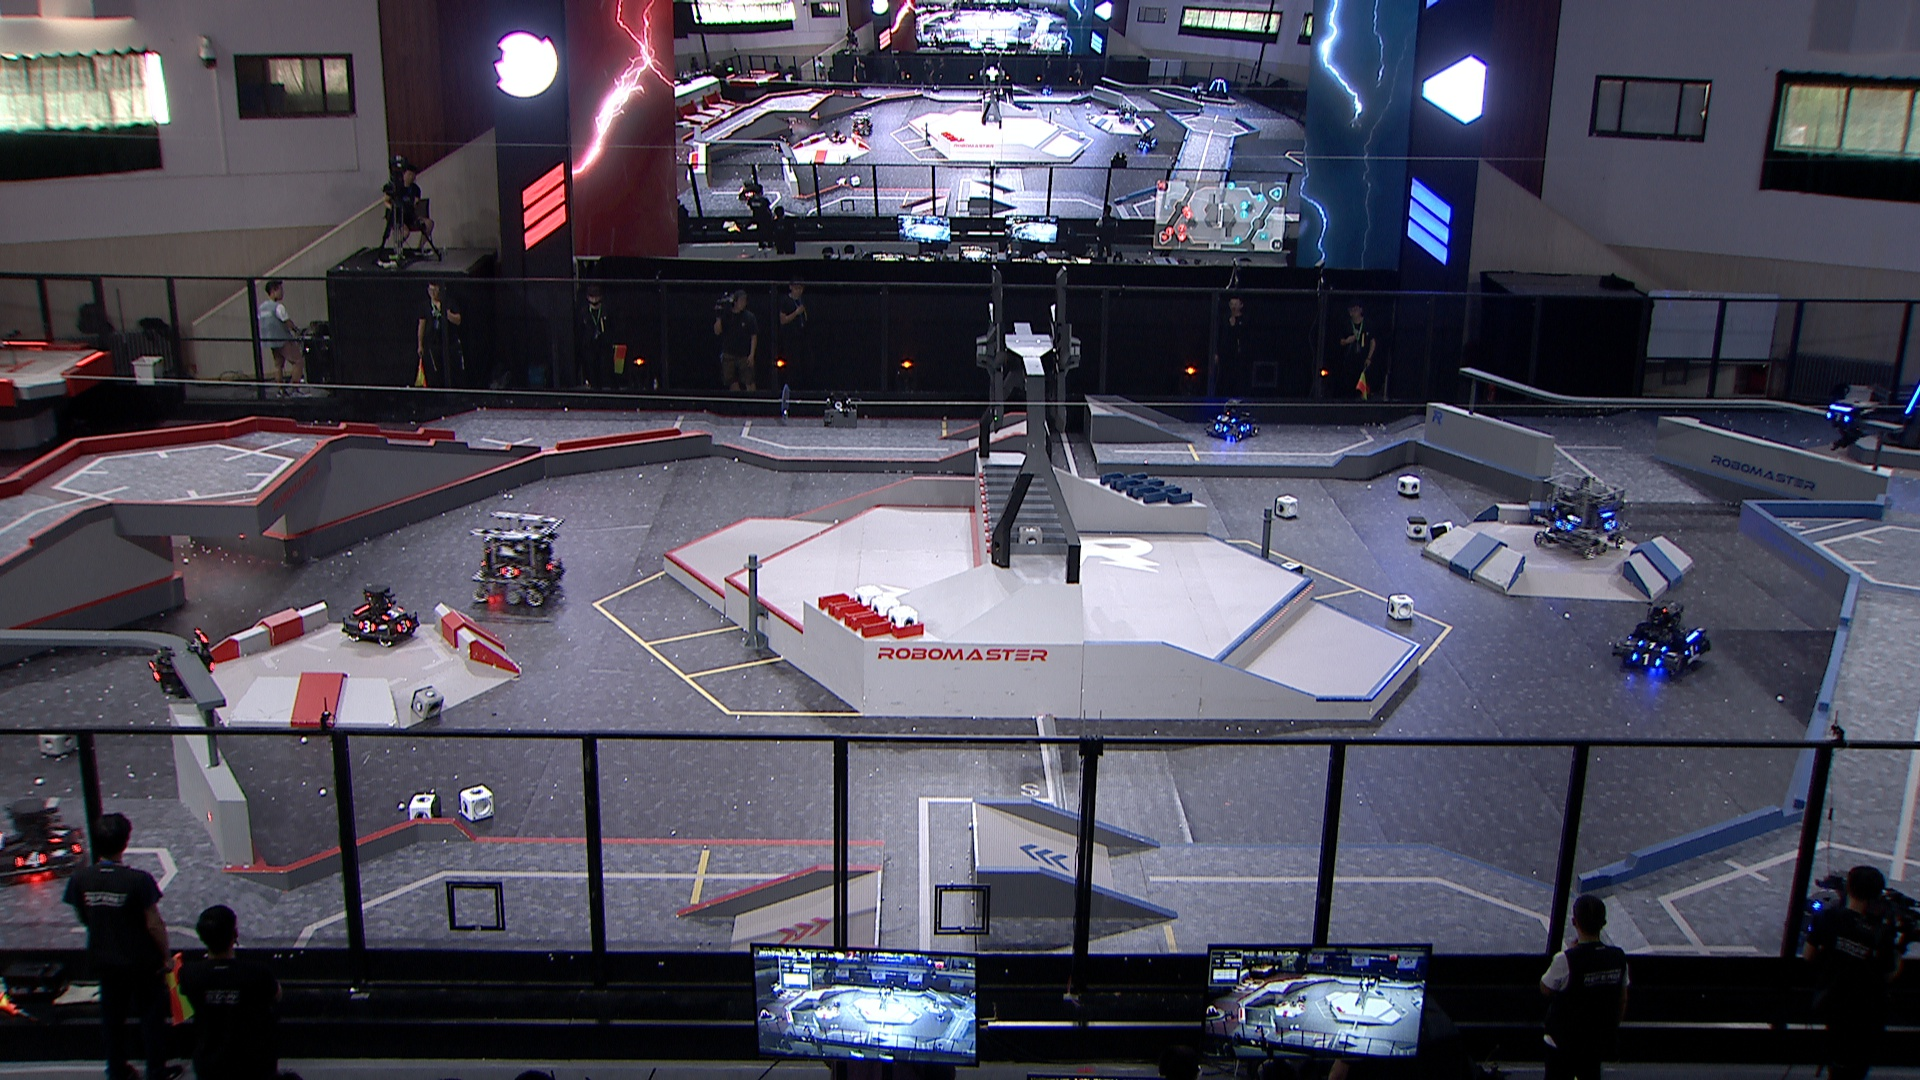armor: (12, 851, 47, 870), (45, 822, 69, 844), (1903, 386, 1920, 417), (381, 603, 405, 621), (1633, 654, 1662, 669), (1636, 640, 1669, 651), (146, 661, 164, 683), (1826, 410, 1851, 425), (356, 618, 377, 636), (498, 564, 520, 582), (396, 618, 413, 633), (1216, 414, 1238, 425), (1683, 644, 1700, 655), (1212, 422, 1229, 434), (1556, 518, 1575, 529), (1602, 518, 1617, 531), (1240, 422, 1251, 433)
base: (1880, 368, 1920, 458)
car: (462, 506, 564, 604), (1789, 865, 1898, 955), (1611, 593, 1714, 683), (1536, 471, 1633, 559), (343, 585, 422, 647), (1203, 404, 1257, 440)
ignore: (1203, 76, 1230, 102), (849, 109, 873, 138), (1133, 131, 1160, 153)
watcher: (145, 628, 216, 700), (1825, 396, 1879, 452)
